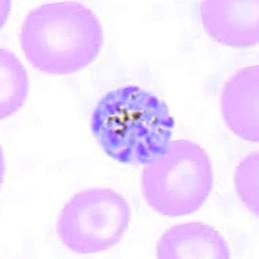Infected: (89, 84, 173, 165)
Uninfected: (19, 2, 102, 76), (139, 140, 213, 216), (56, 186, 131, 254)
